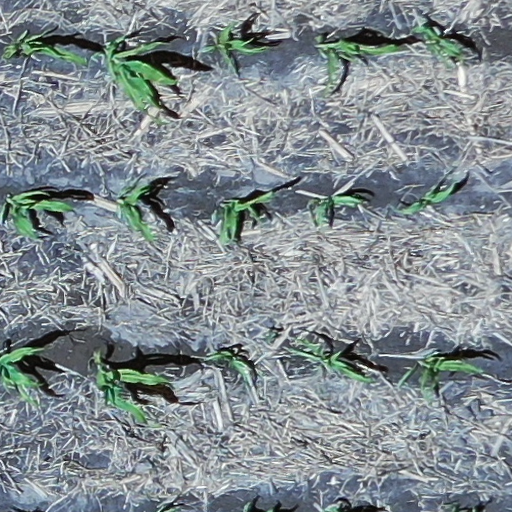planta: (98, 35, 176, 125), (94, 348, 170, 423), (279, 337, 377, 389), (320, 37, 401, 93), (210, 189, 278, 249), (418, 354, 492, 408), (389, 174, 458, 214), (205, 23, 266, 67), (4, 33, 85, 65), (117, 172, 154, 240), (307, 195, 369, 229), (414, 23, 463, 60), (201, 349, 245, 375)
